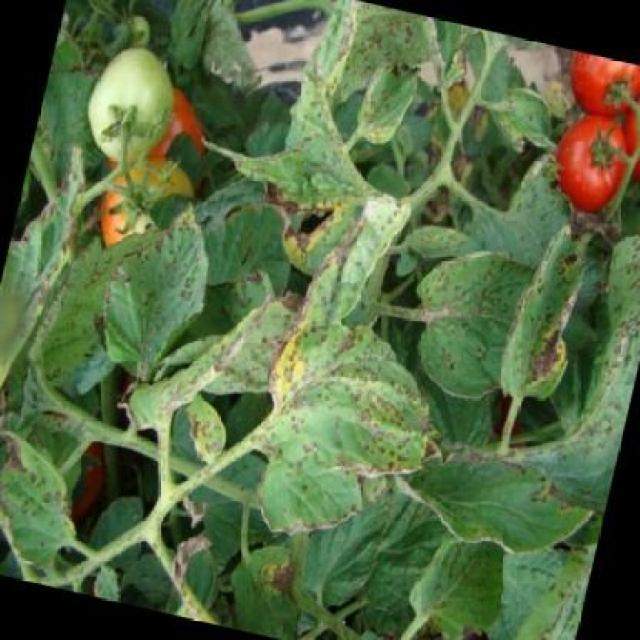Tomato leaf bacterial spot: (203, 183, 474, 569), (249, 0, 398, 238), (84, 180, 234, 409), (380, 228, 558, 420), (383, 424, 606, 570), (476, 203, 602, 419), (344, 46, 422, 151)
